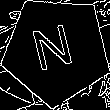N_S: (31, 21, 81, 80)
